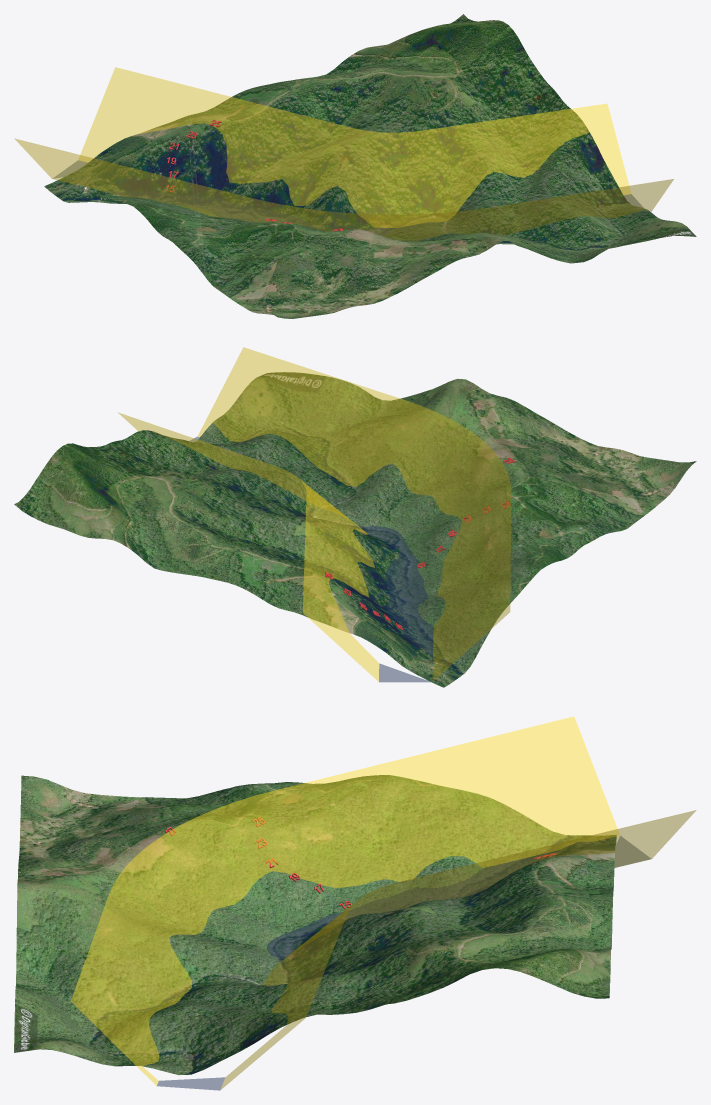
Rendered from curva160.glb.
3 views of the same model, one above another, from view 1: azimuth 30°, elevation 25°; view 2: azimuth 150°, elevation 25°; view 3: azimuth 270°, elevation 25° (orthographic). The views are drawn at different scales.
Parts seen in each view (by area): view 1: root; view 2: root; view 3: root.
Part boxes in pixels (<box>): root: <box>14,14,696,318</box>; root: <box>14,347,696,687</box>; root: <box>14,716,695,1090</box>.
Size of the model in its own units: 2334 by 444 by 2278.
Materials: 5 (1 with a texture image).
